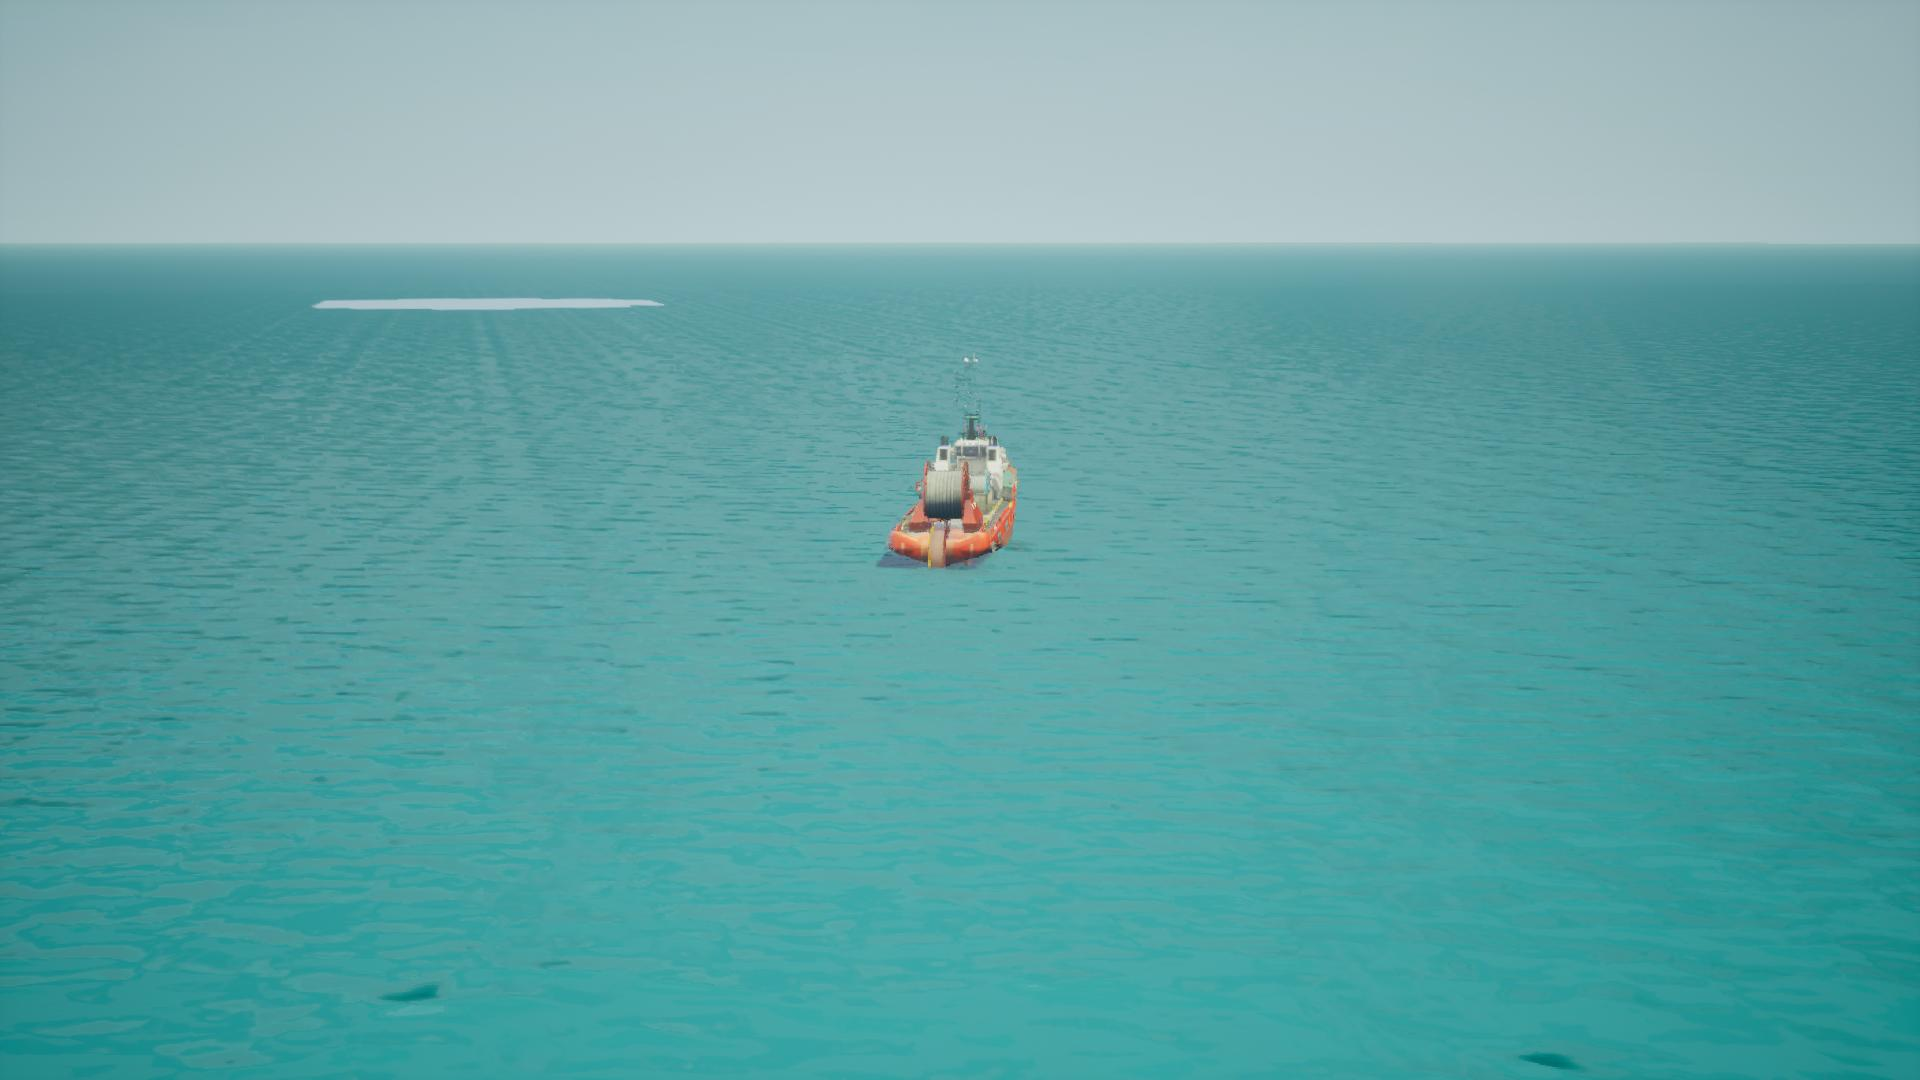Tug Boat: (899, 398, 1022, 566)
